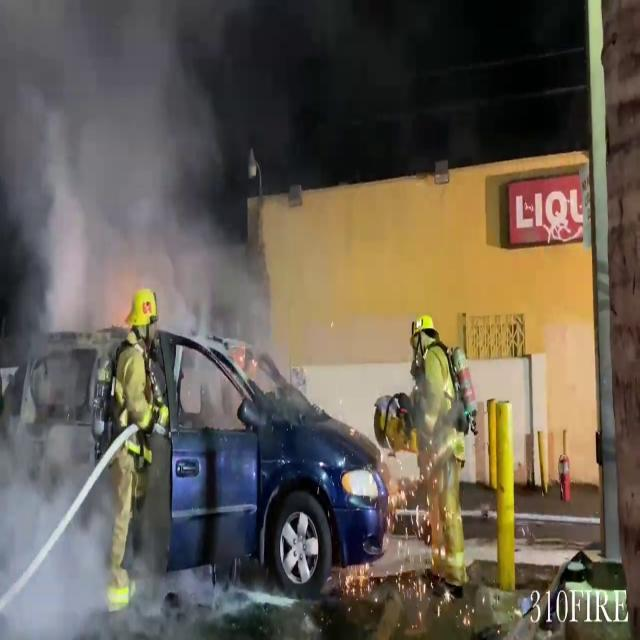Smoke: (0, 0, 261, 344), (0, 390, 131, 631)
